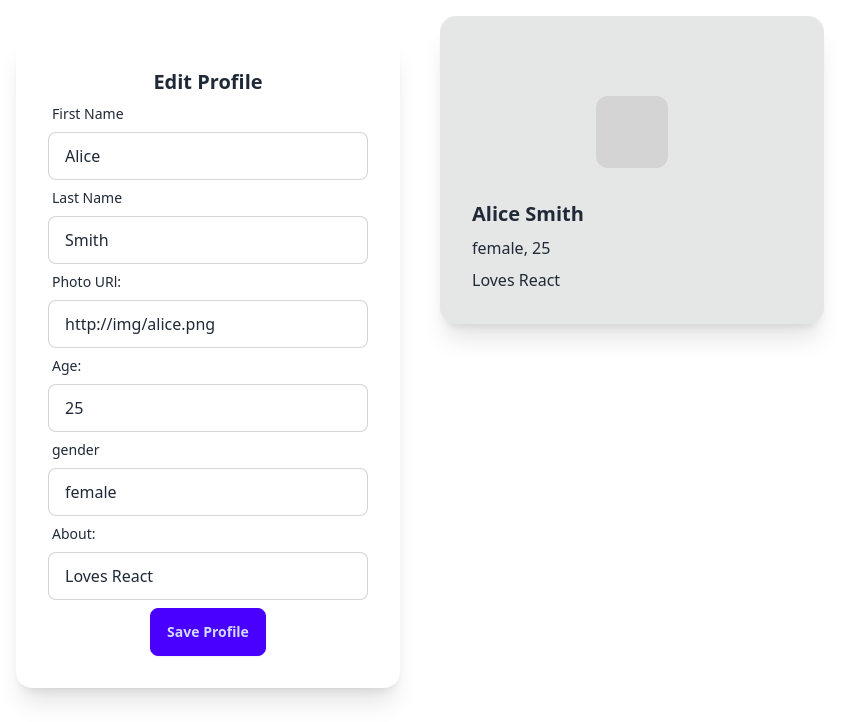
Test: EditProfile › updates the preview card as the user edits fields
Replace the text in the field labelled "First Name" with "Bob" at (208,156), box [48,132,368,180]
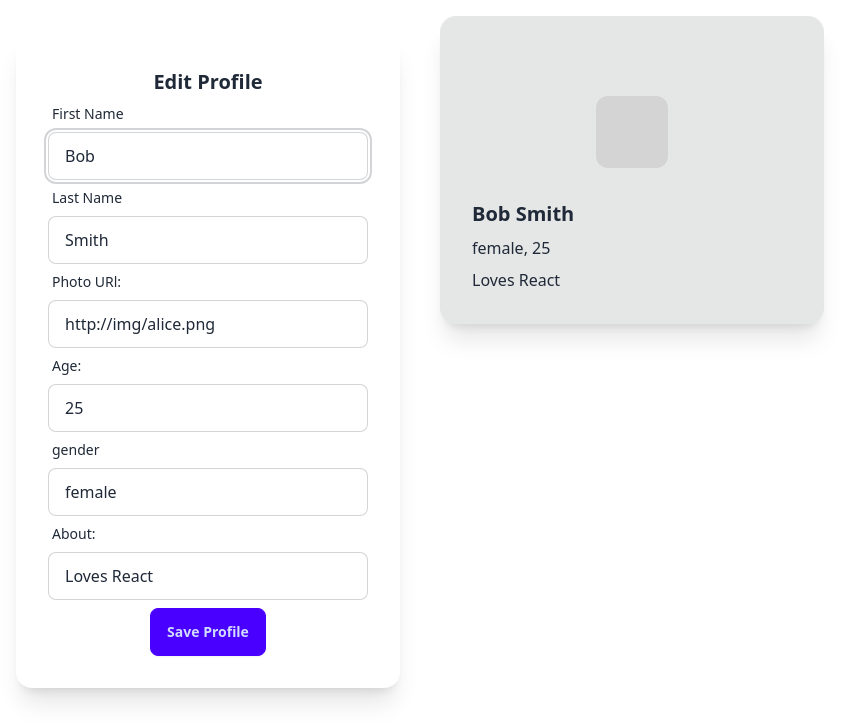
Replace the text in the field labelled "Last Name" with "Jones" at (208,240), box [48,216,368,264]
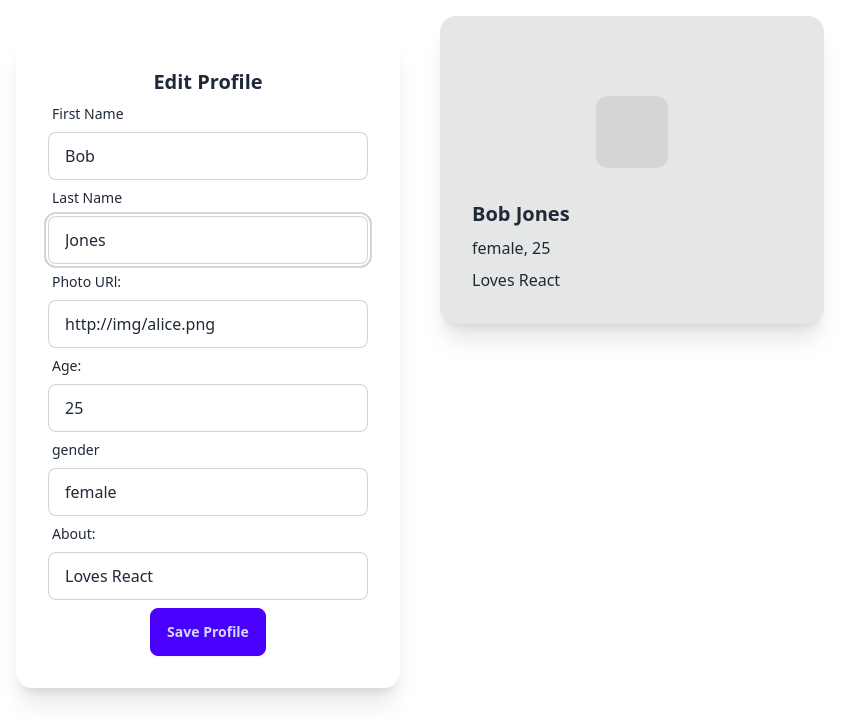
Replace the text in the field labelled "Photo URl:" with "http://img/bob.png" at (208,324), box [48,300,368,348]
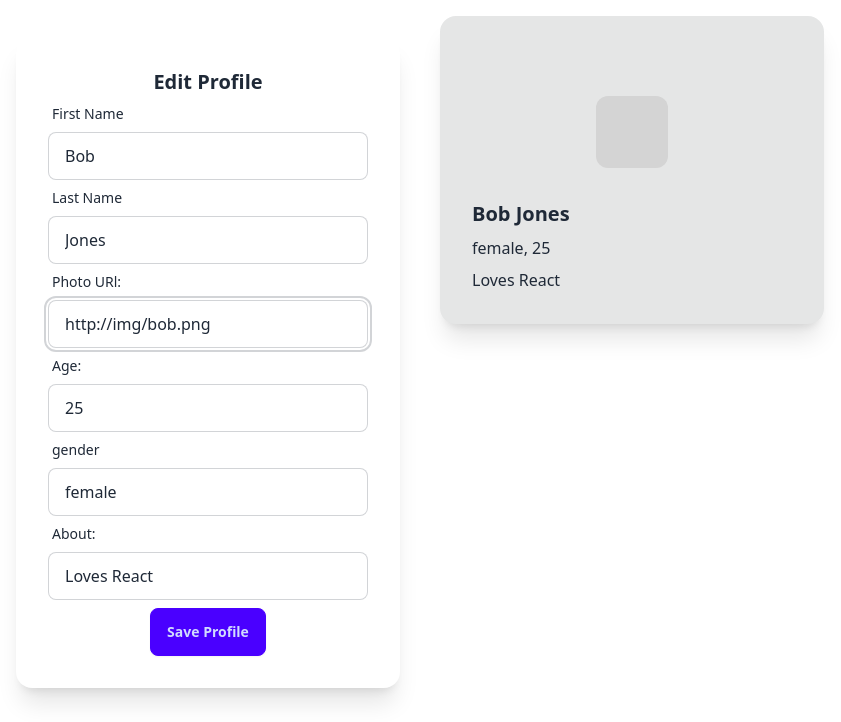
Replace the text in the field labelled "Age:" with "30" at (208,408), box [48,384,368,432]
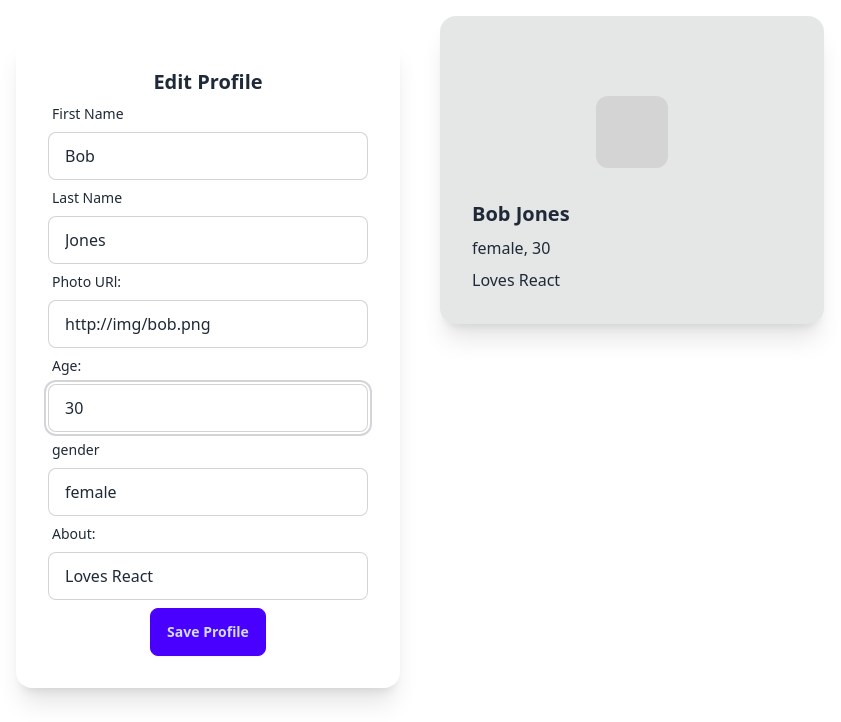
Replace the text in the field labelled "gender" with "male" at (208,492), box [48,468,368,516]
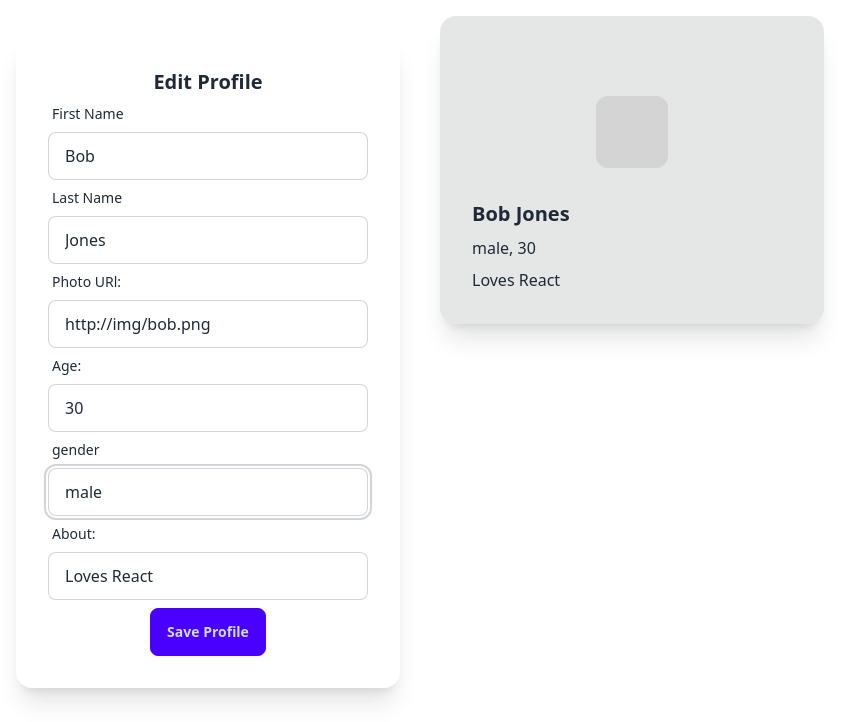
Replace the text in the field labelled "About:" with "Backend dev" at (208,576), box [48,552,368,600]
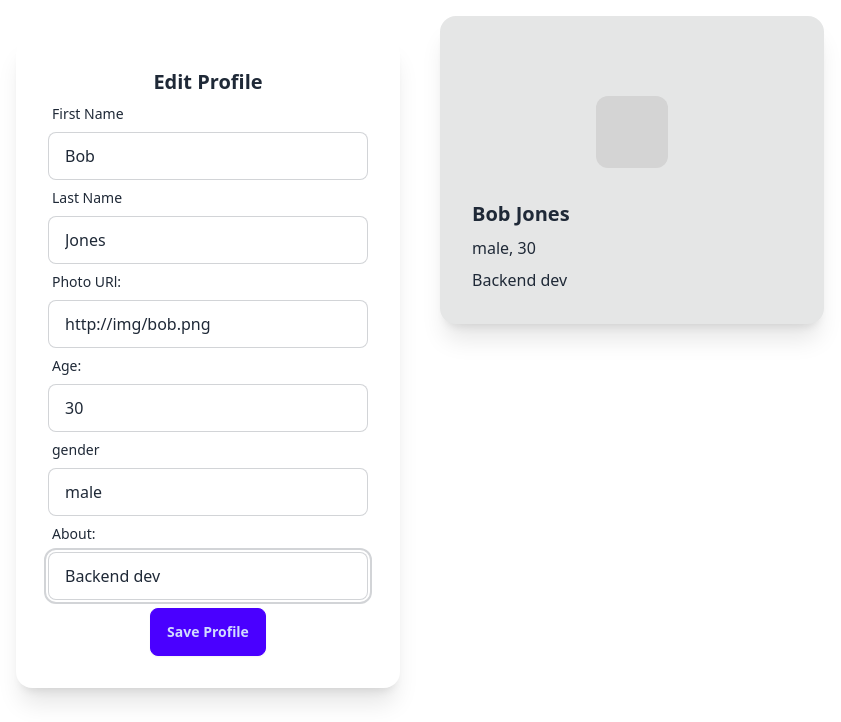
Expected: the heading "Bob Jones" is shown, [472,200,570,227]
Expected: the heading "male, 30" is shown, [472,237,536,259]
Expected: the text "Backend dev" is shown, [472,269,567,291]
